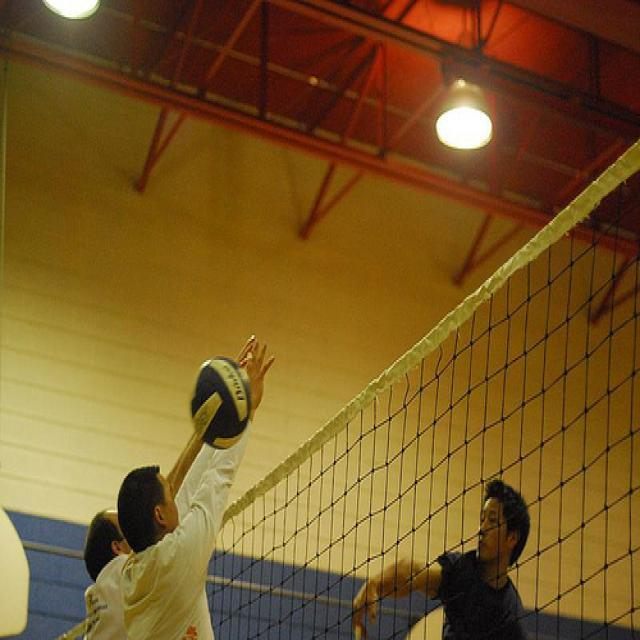volleyball: (190, 356, 252, 449)
